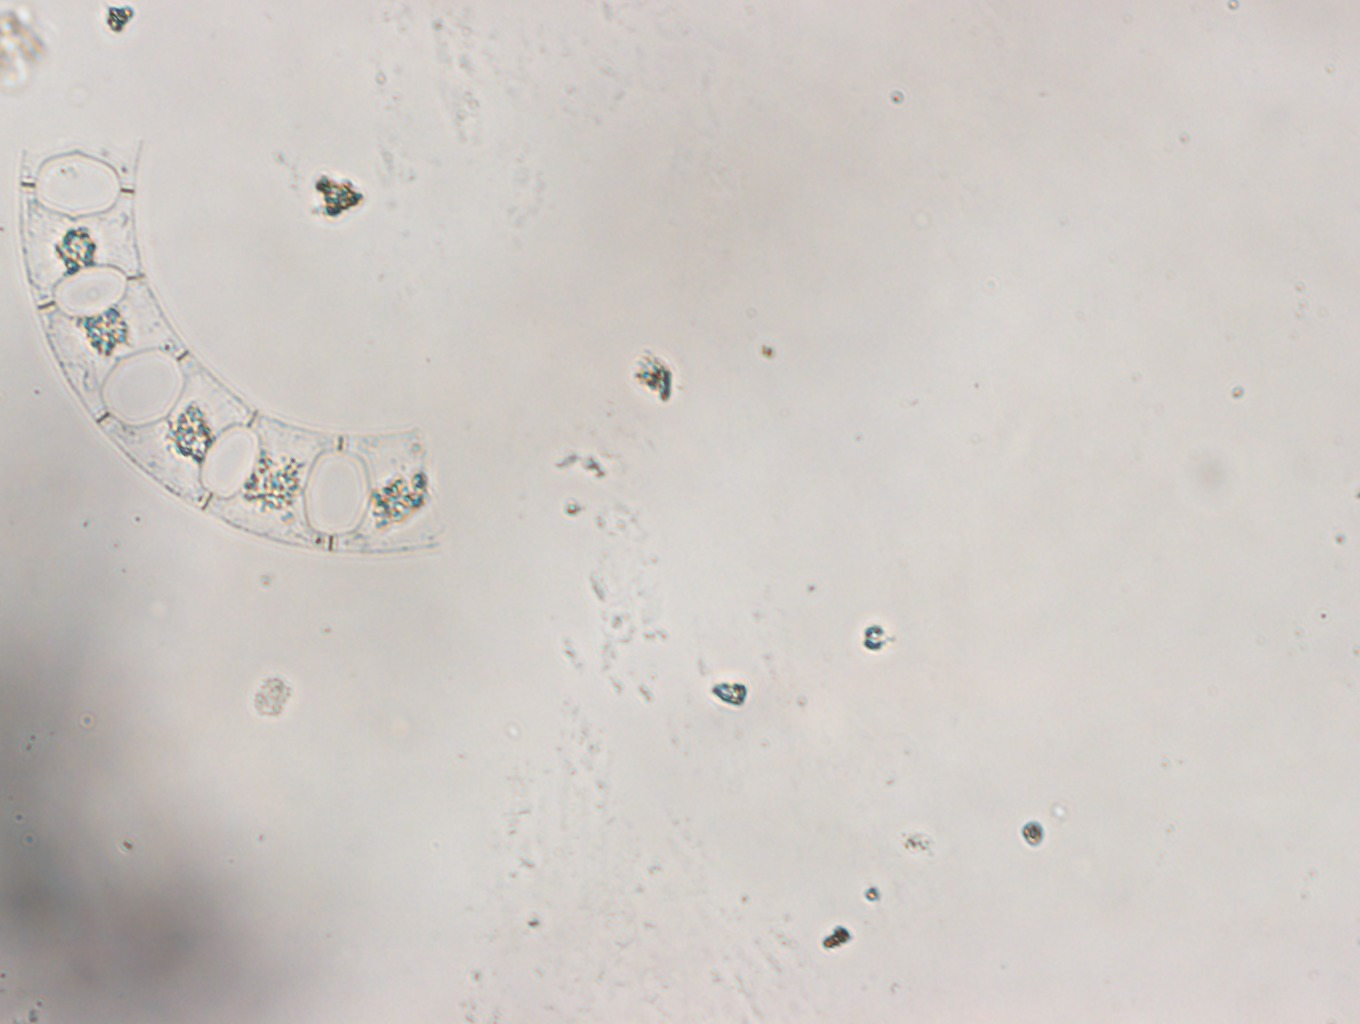eucampia: (23, 148, 442, 552)
